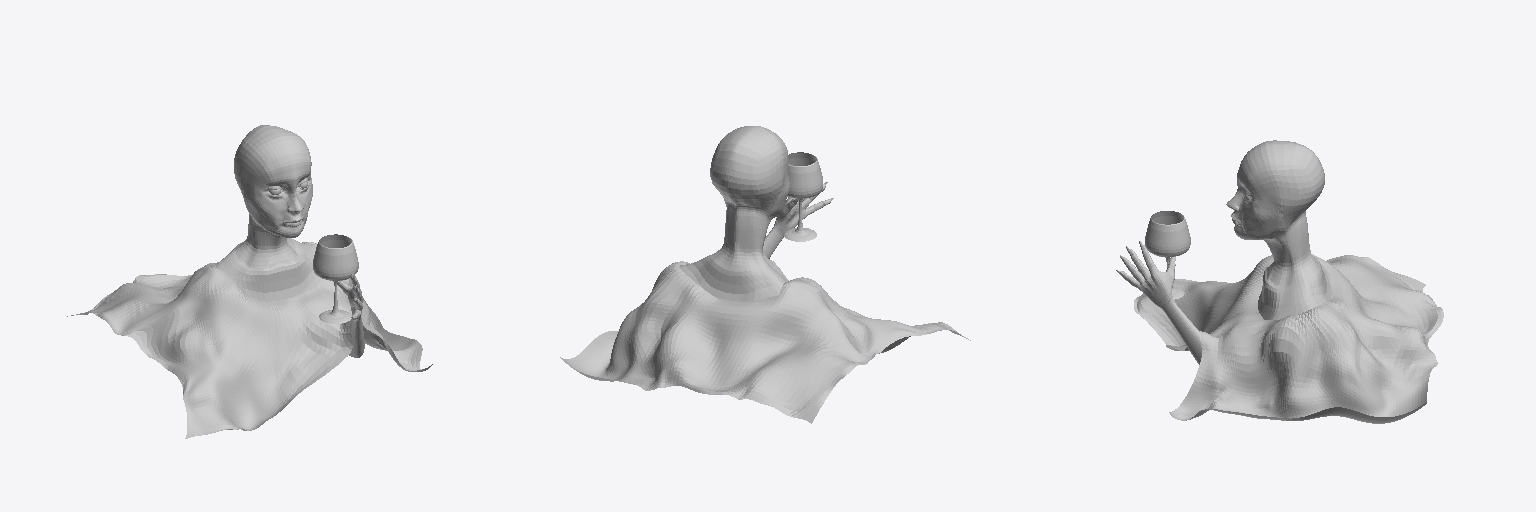
File: ancientWitch.obj
The picture shows the model from 3 angles: view 1: azimuth 30°, elevation 25°; view 2: azimuth 150°, elevation 25°; view 3: azimuth 270°, elevation 25°; orthographic projection.
Parts seen in each view (by area): view 1: pPlane1, HEAD ANI323_Wk13_Face_MFerrin__USEME_smoothed:pCube1, Wine_Glass, ANI323_Wk8_Hand_MFerrin:pCube13 HAND; view 2: pPlane1, HEAD ANI323_Wk13_Face_MFerrin__USEME_smoothed:pCube1, Wine_Glass, ANI323_Wk8_Hand_MFerrin:pCube13 HAND; view 3: pPlane1, HEAD ANI323_Wk13_Face_MFerrin__USEME_smoothed:pCube1, ANI323_Wk8_Hand_MFerrin:pCube13 HAND, Wine_Glass.
Boxes of the visible parts, <box> form: pPlane1: <box>67,242,432,438</box>; HEAD ANI323_Wk13_Face_MFerrin__USEME_smoothed:pCube1: <box>210,125,322,302</box>; Wine_Glass: <box>313,234,358,323</box>; ANI323_Wk8_Hand_MFerrin:pCube13 HAND: <box>337,273,364,357</box>; pPlane1: <box>560,261,970,423</box>; HEAD ANI323_Wk13_Face_MFerrin__USEME_smoothed:pCube1: <box>679,126,789,301</box>; Wine_Glass: <box>784,152,822,241</box>; ANI323_Wk8_Hand_MFerrin:pCube13 HAND: <box>763,182,833,258</box>; pPlane1: <box>1134,254,1443,423</box>; HEAD ANI323_Wk13_Face_MFerrin__USEME_smoothed:pCube1: <box>1226,140,1332,319</box>; ANI323_Wk8_Hand_MFerrin:pCube13 HAND: <box>1116,241,1201,364</box>; Wine_Glass: <box>1145,211,1190,299</box>.
Size of the model in its own units: 17.01 by 14.29 by 17.52.